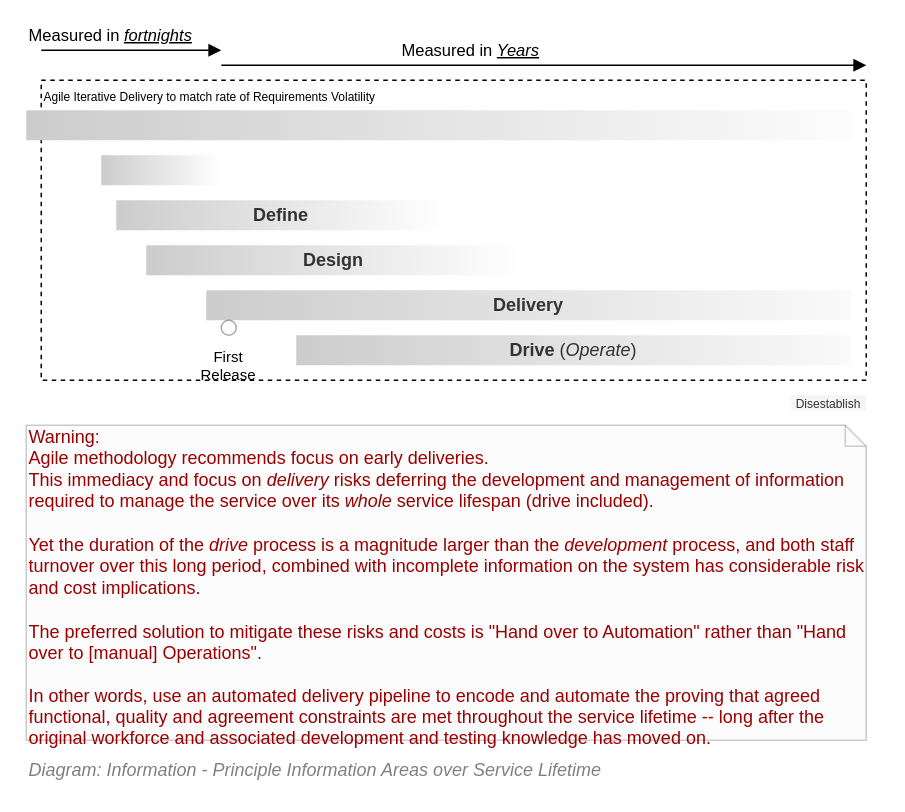
The diagram is 905 pixels wide and 812 high, and some of its shapes have lost their labels. The box of each missing label's shape, as (x1, y1, x2, y2) in pixels:
Direction: (26, 110, 850, 140)
Discovery: (100, 154, 220, 184)
